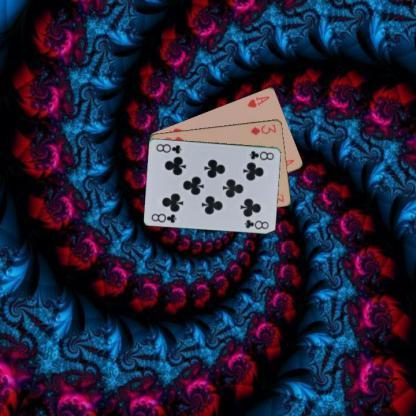3d: (248, 122, 277, 136)
8c: (246, 148, 276, 162), (149, 211, 178, 223)
Ah: (244, 93, 271, 109)
